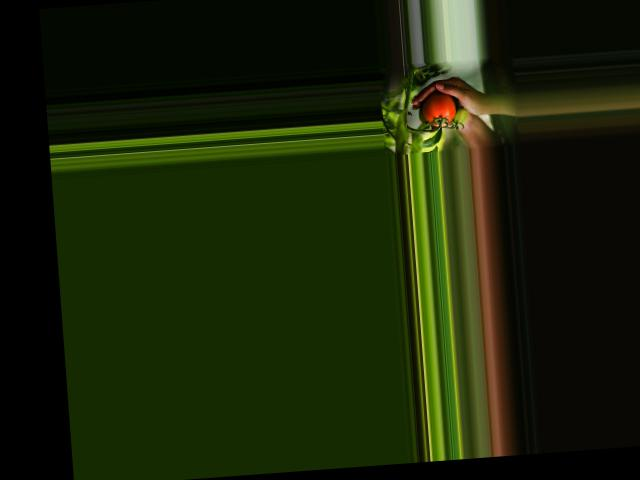tomato: (422, 91, 457, 126)
